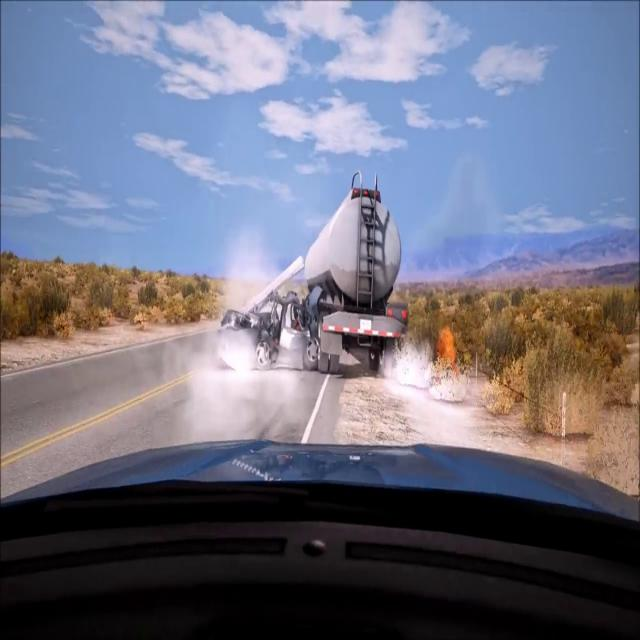accident: (218, 170, 408, 385)
